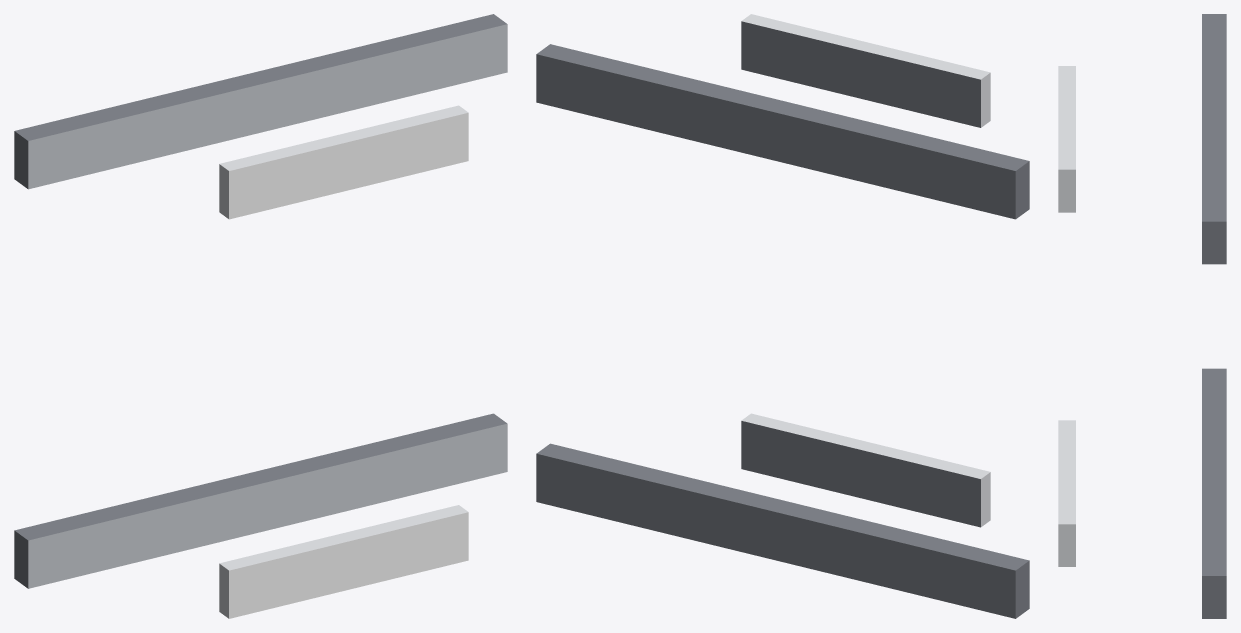
File: station-brt.gltf
3 views of the same model, side by side, from view 1: azimuth 30°, elevation 25°; view 2: azimuth 150°, elevation 25°; view 3: azimuth 270°, elevation 25° (orthographic). The views are drawn at different scales.
Visible parts, largest first — view 1: station-brt; view 2: station-brt; view 3: station-brt.
Boxes of the visible parts, x1,y1,x2,y2 form: station-brt: [14, 14, 507, 618]; station-brt: [536, 14, 1029, 618]; station-brt: [1058, 14, 1226, 618].
Size of the model in its own units: 14 by 12.5 by 4.8.
1 material, 1 textured.
